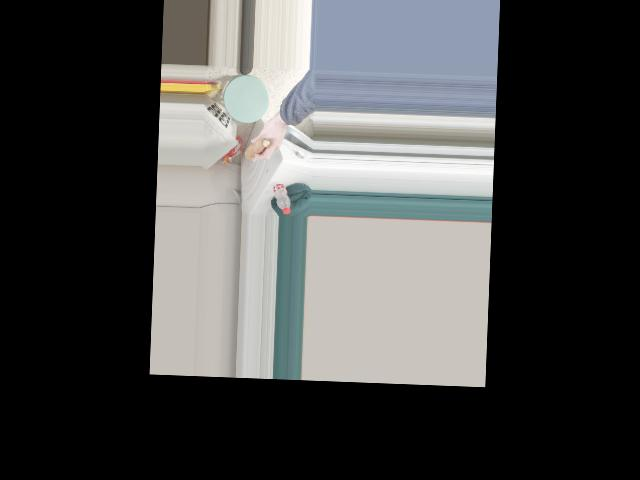sweet_potato: (245, 134, 273, 163)
